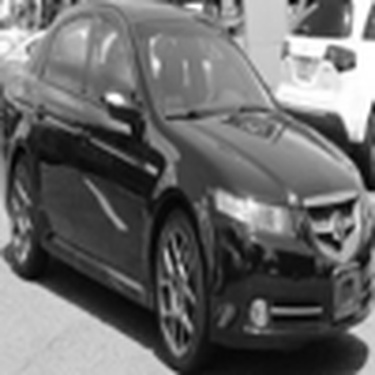car: (3, 6, 372, 371), (273, 1, 373, 193), (98, 29, 215, 85), (1, 22, 98, 66), (213, 1, 246, 34)
